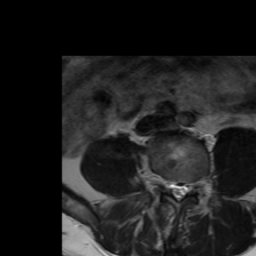CCS_normal: (174, 177, 181, 207)
LFS_normal: (190, 171, 199, 202)
LLS_normal: (181, 175, 190, 202)
RFS_normal: (159, 170, 167, 200)
RLS_normal: (167, 174, 174, 201)
